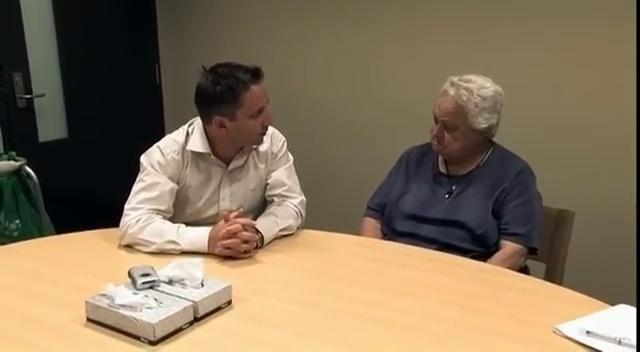others: (116, 59, 314, 257), (358, 71, 553, 270)
